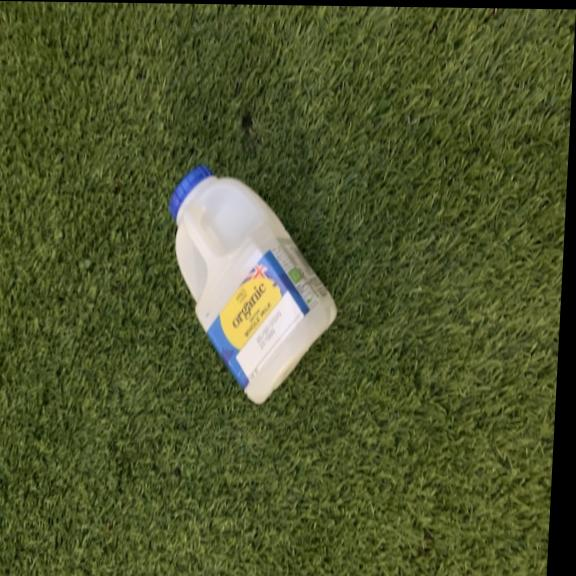Plastik: (157, 163, 347, 403)
